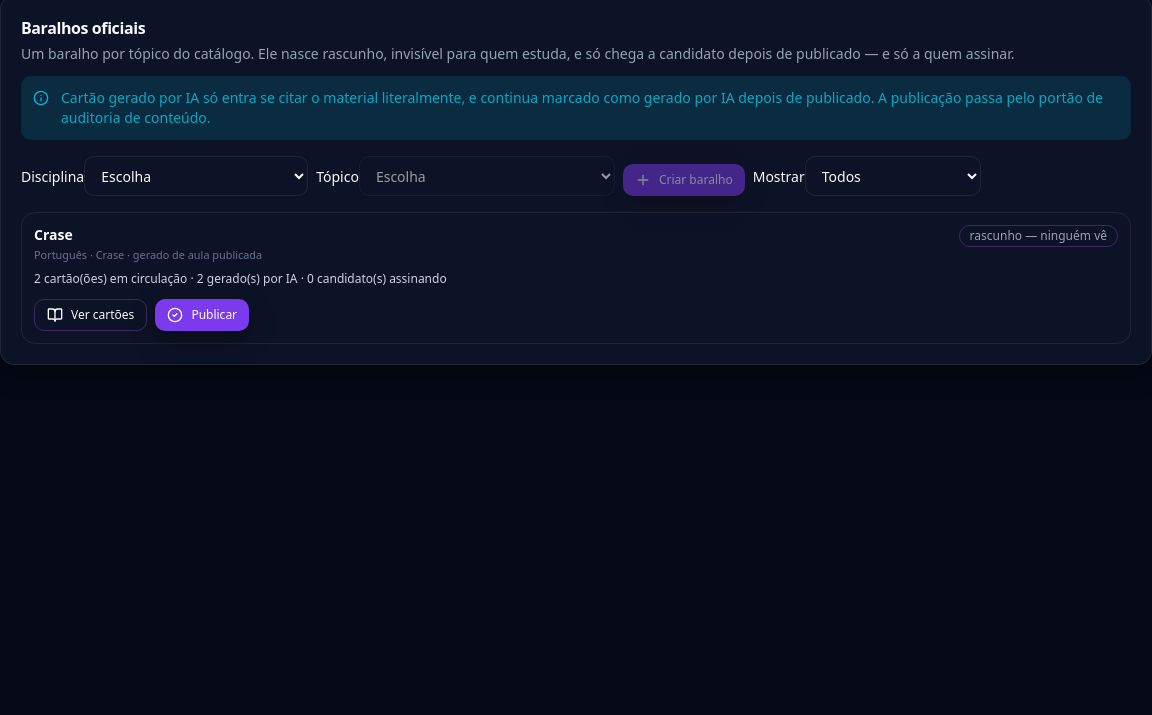
DecksSection › o cartão de IA continua marcado como de IA dentro do baralho oficial
The width and height of the screenshot is (1152, 715).
Click the button "Ver cartões" at (91,315), box [34,299,147,331]
(page scrolled)
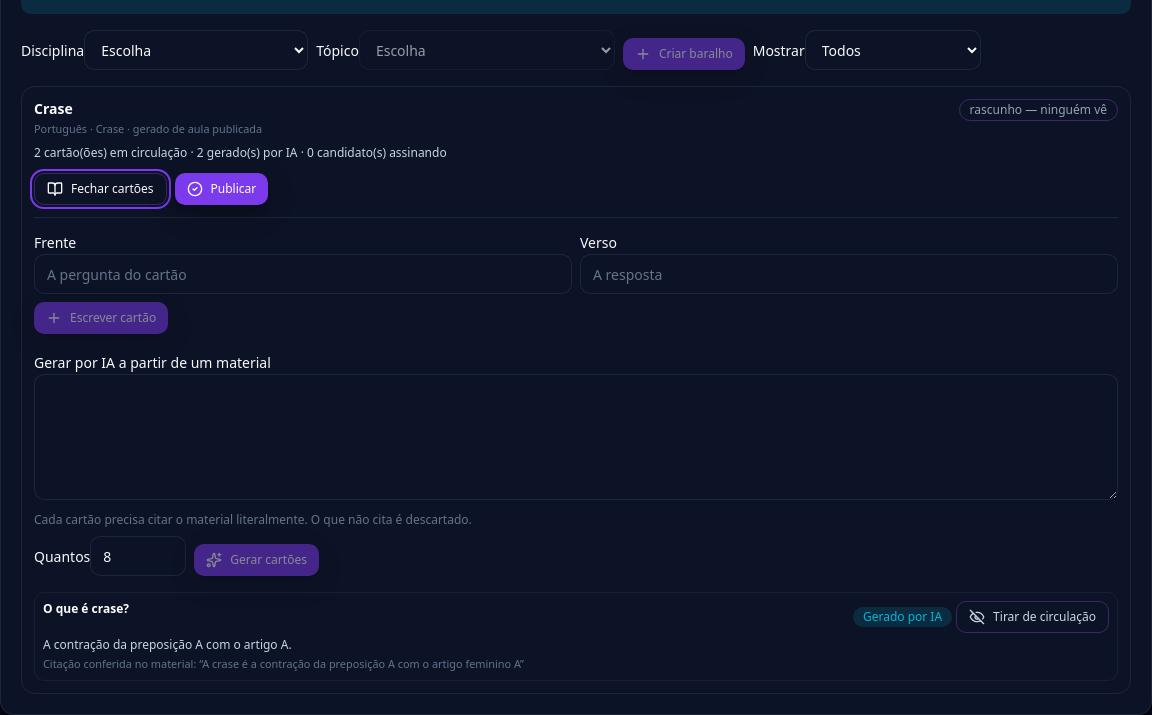
Now the text "Gerado por IA" is shown, box [853,607,952,627]
Now the text "Citação conferida no material" is shown, box [43,656,202,671]
